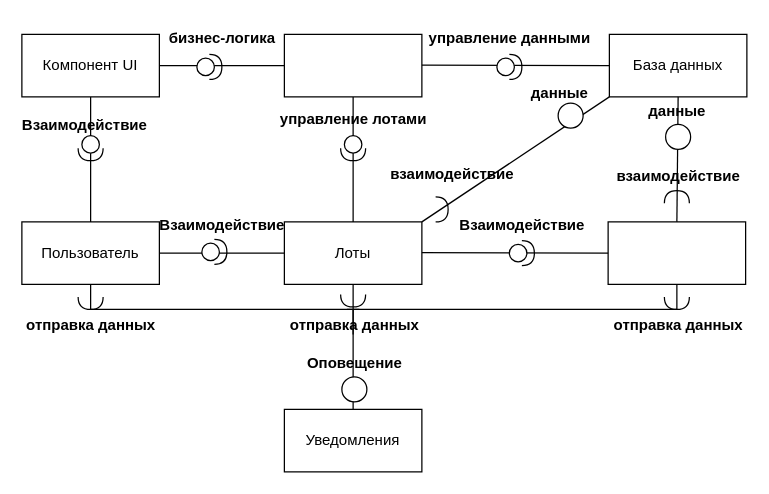
This 769x494 diagram has some shape labels left out. The centre of each missing label's shape, as x and y in pixels:
"Логика аукциона" belongs at point 352,65.
"Ставки" belongs at point 676,252.
